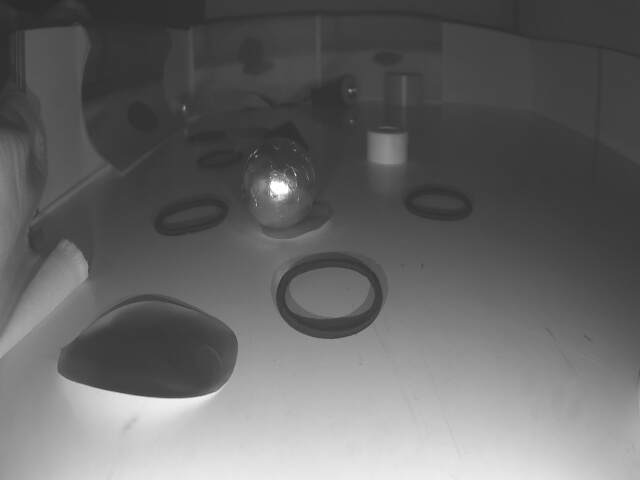Live: (239, 140, 318, 231)
